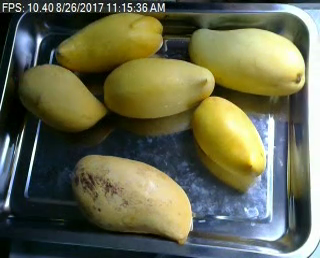Mango: (71, 153, 192, 244), (187, 26, 304, 94), (105, 56, 214, 119), (55, 11, 163, 71), (191, 95, 265, 176), (17, 65, 108, 129)
